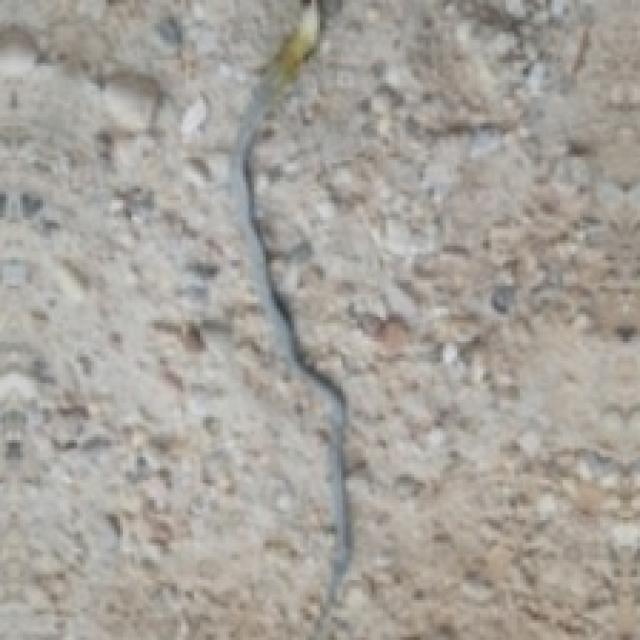king cobra: (231, 0, 349, 637)
